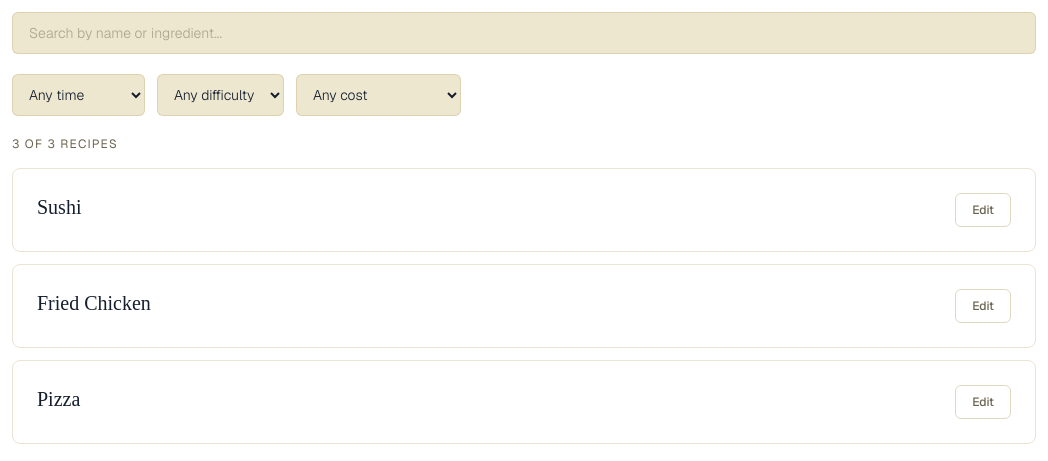
Test case: RecipeListClient › displays matching recipes when the user enters a valid search query
Type "sushi" into the field named "search recipes".
click(524, 33); type("sushi")  # box [12, 12, 1036, 54]
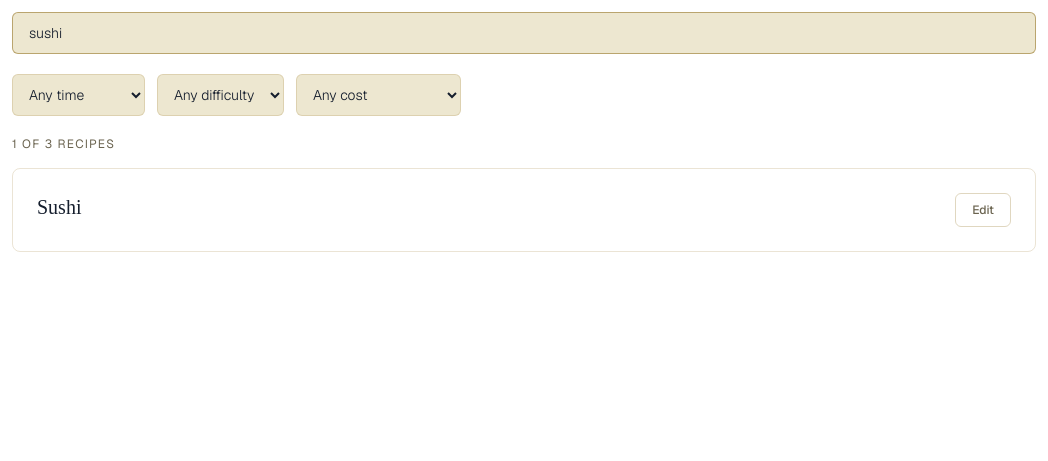
expect the heading "Fried Chicken" is gone: met
expect the heading "Pizza" is gone: met
expect the text "1 of 3 recipes" is shown: met, box [12, 136, 115, 152]
